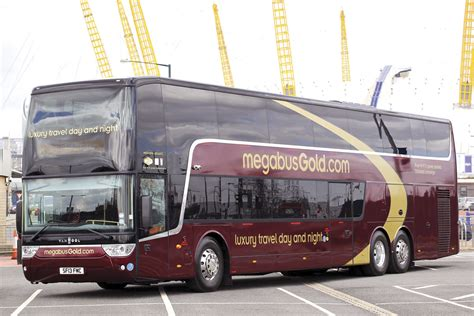bus: (23, 85, 459, 285)
